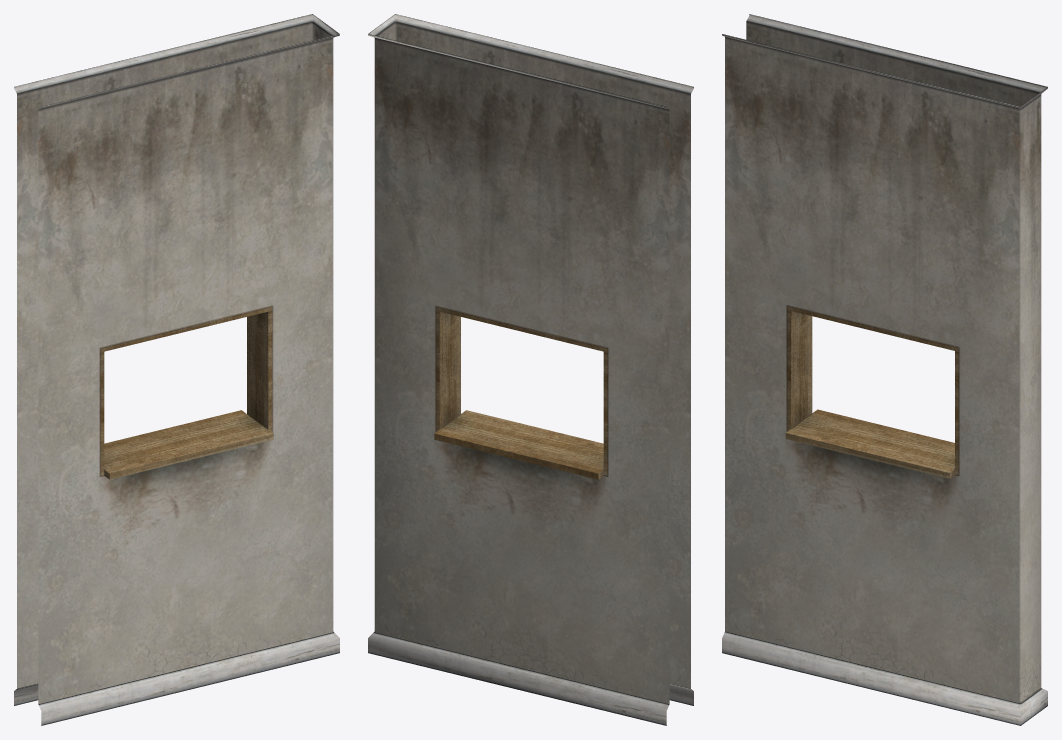
File: livingroom_damaged_flat_hole.dae
3 renders of one model, left to right at view 1: azimuth 30°, elevation 25°; view 2: azimuth 150°, elevation 25°; view 3: azimuth 330°, elevation 25°, orthographic.
Parts seen in each view (by area): view 1: pCube4; view 2: pCube4; view 3: pCube4.
Part boxes in pixels (x1,y1,x2,y2): pCube4: [14, 14, 339, 725]; pCube4: [368, 14, 693, 725]; pCube4: [722, 14, 1047, 725].
Size of the model in its own units: 2.02 by 4 by 0.375.
